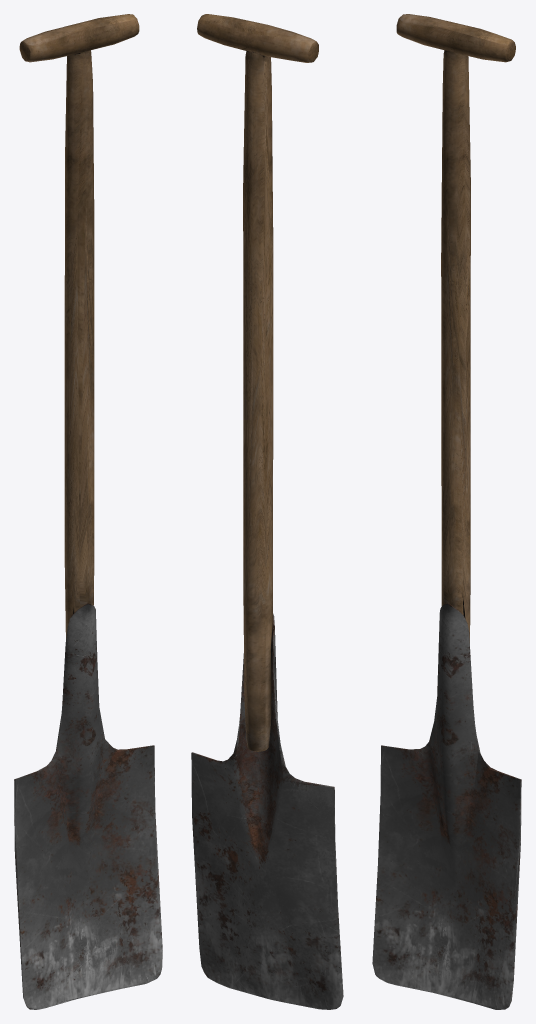
The model's file is rusted_spade.fbx.
3 views of the same model, side by side, from view 1: azimuth 30°, elevation 25°; view 2: azimuth 150°, elevation 25°; view 3: azimuth 330°, elevation 25° (orthographic). The views are drawn at different scales.
Parts seen in each view (by area): view 1: rusted_spade_01; view 2: rusted_spade_01; view 3: rusted_spade_01.
Boxes of the visible parts, <box> form: rusted_spade_01: <box>14,14,162,1009</box>; rusted_spade_01: <box>191,14,343,1009</box>; rusted_spade_01: <box>372,14,521,1009</box>.
Bounding box in the file's own units: 16.81 × 110 × 4.6.
